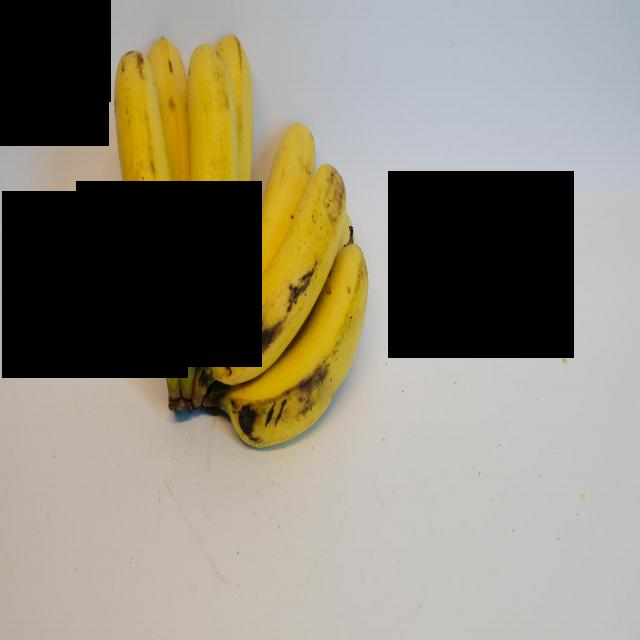banana: (194, 149, 360, 402), (222, 217, 381, 462), (111, 37, 188, 414), (174, 48, 237, 402)
